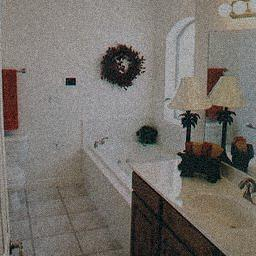Lavamanos: (183, 166, 255, 237)
Sanitario: (10, 127, 36, 215)
